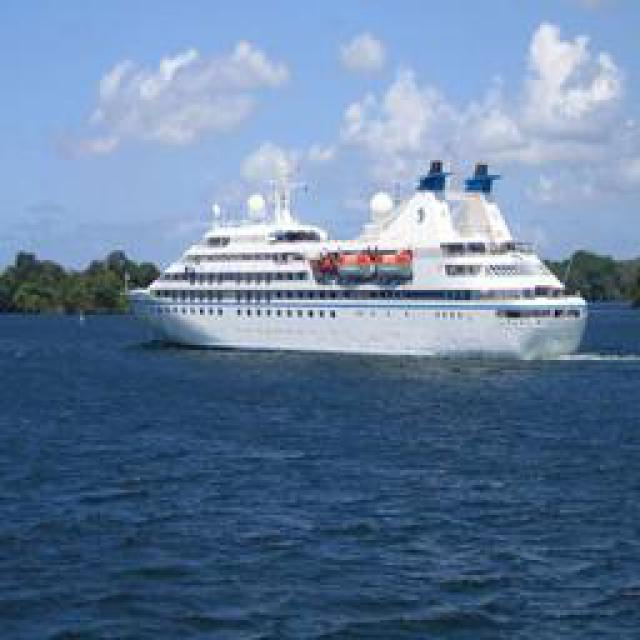Ship: (133, 155, 598, 365)
